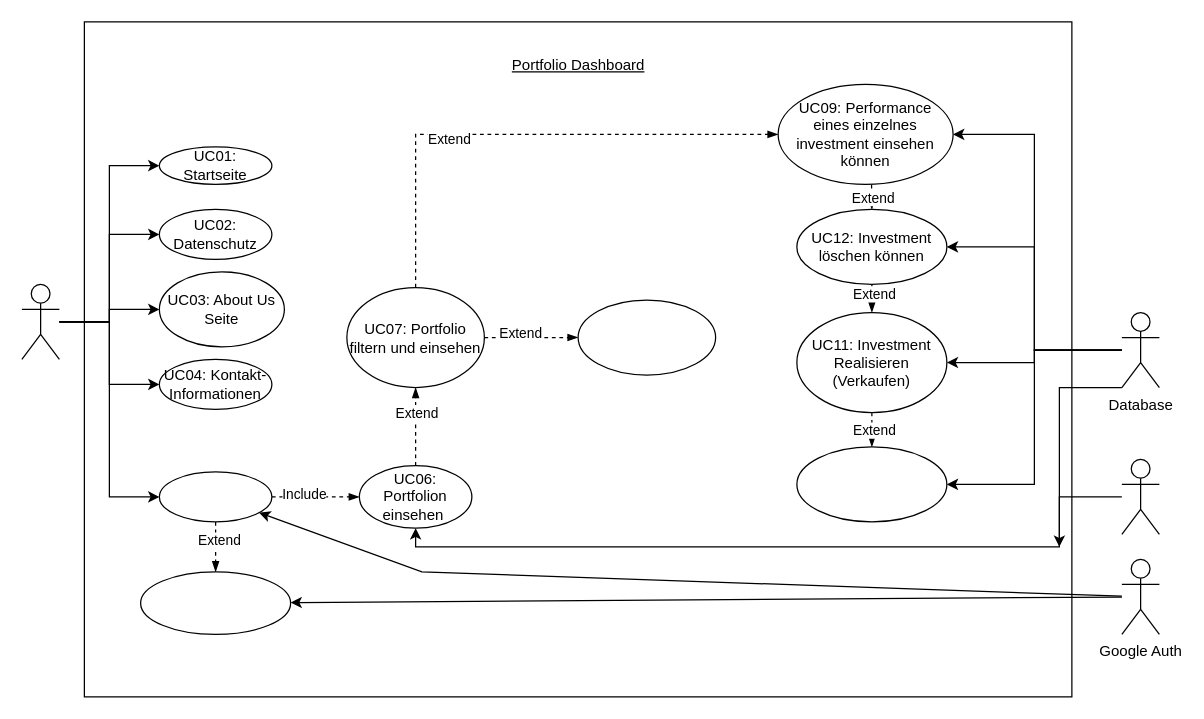
Image size: 1204x719. Some labels were removed from this diagram. Here are the shapes that lost their labels. From the top down, the centre of each, then its label:
At point 40,321: "User".
At point 646,337: "UC08: Neues investment Hinzufügen".
At point 215,496: "UC5: Google Login".
At point 871,484: "UC10: Investment Bearbeiten".
At point 1140,496: "Stock API".
At point 215,602: "UC13: Loggout".
